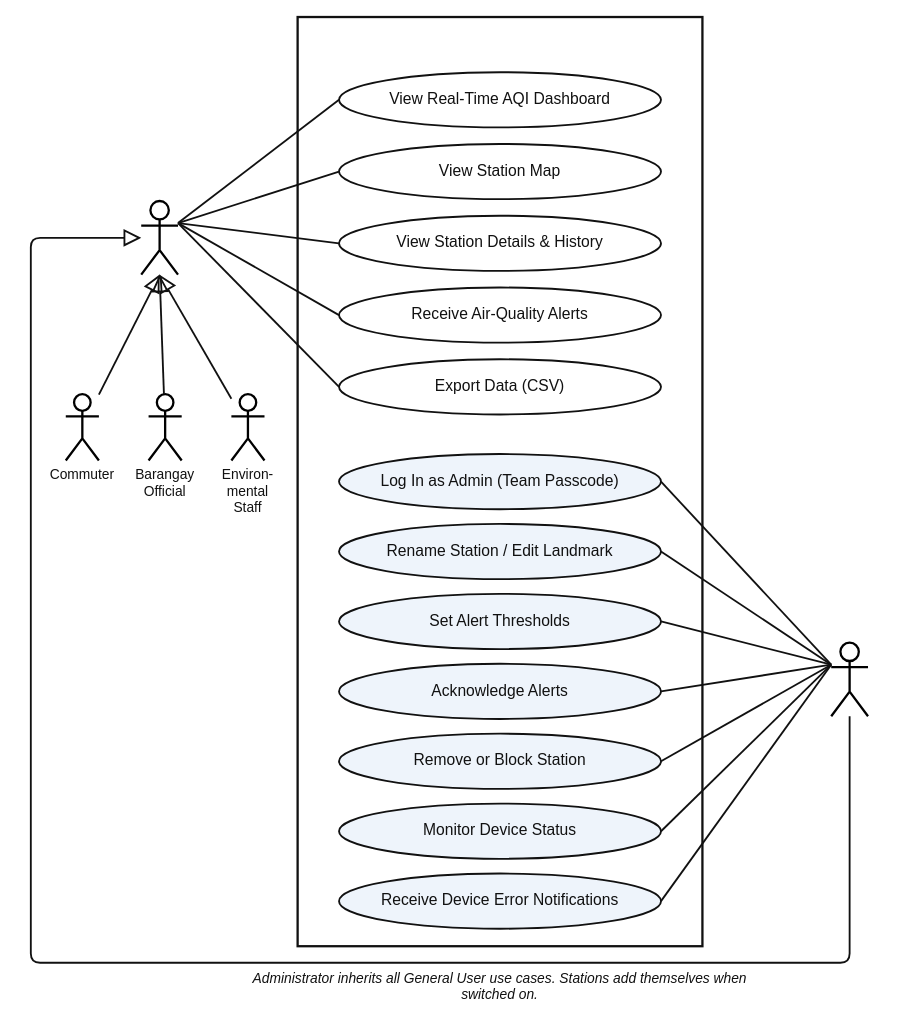
The diagram is 922 pixels wide and 1018 high, and some of its shapes have lost their labels. Each missing label, with the box of its shape:
General User (no account): (140, 199, 179, 275)
GINHAWA Monitoring System: (296, 15, 703, 947)
Monitoring Personnel (Administrator): (830, 641, 869, 717)
